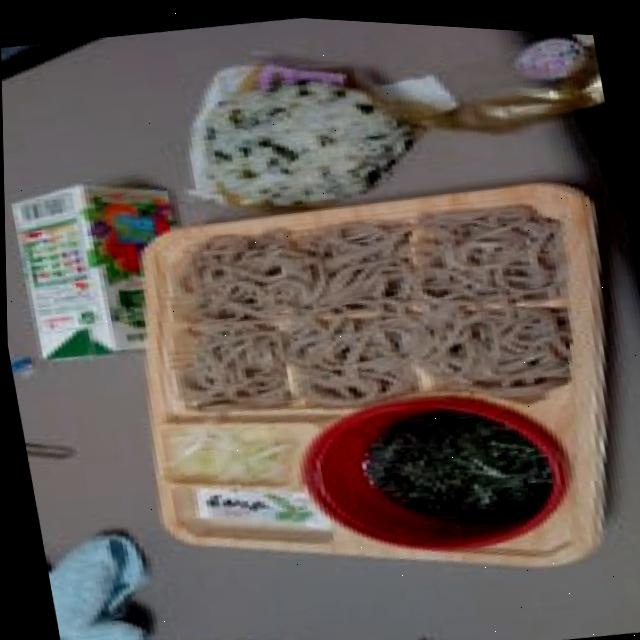米饭主食: (186, 54, 416, 218)
面条主食: (112, 148, 640, 618)
